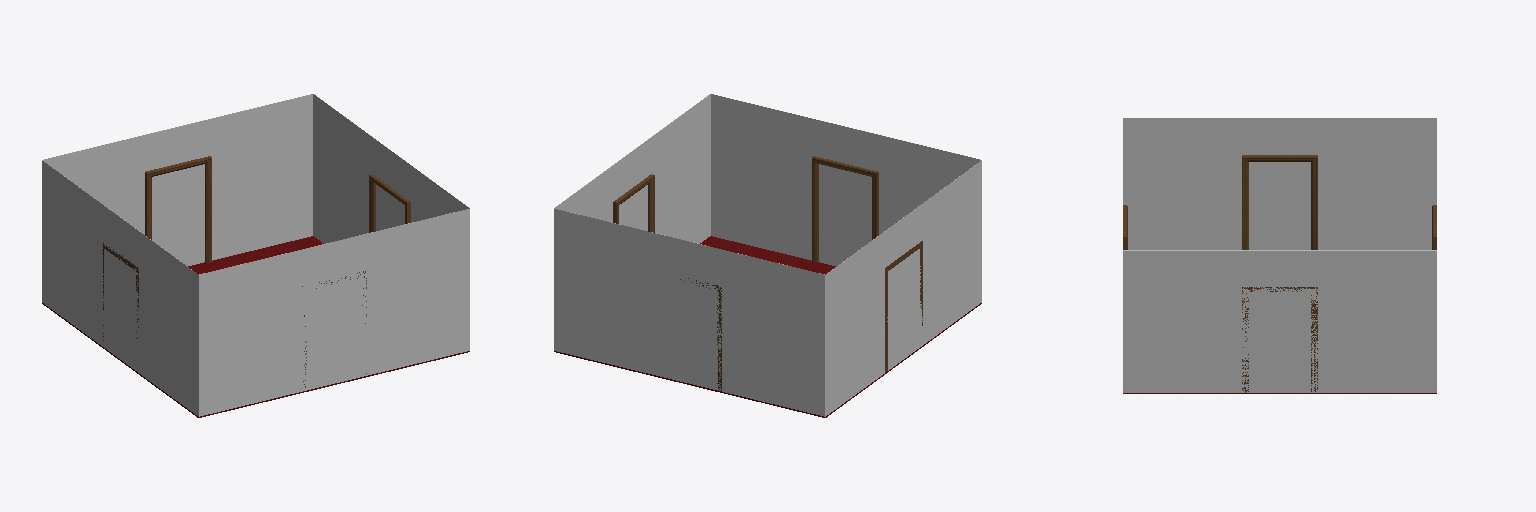
The picture shows the model from 3 angles: view 1: azimuth 30°, elevation 25°; view 2: azimuth 150°, elevation 25°; view 3: azimuth 270°, elevation 25°; orthographic projection.
Visible parts, largest first — view 1: 1x1_hotel_room; view 2: 1x1_hotel_room; view 3: 1x1_hotel_room.
Part boxes in pixels (x1,y1,x2,y2): 1x1_hotel_room: (42,94,469,417); 1x1_hotel_room: (554,94,981,417); 1x1_hotel_room: (1123,118,1436,393).
Bounding box in the file's own units: 20 × 10.1 × 20.
3 materials, 2 textured.